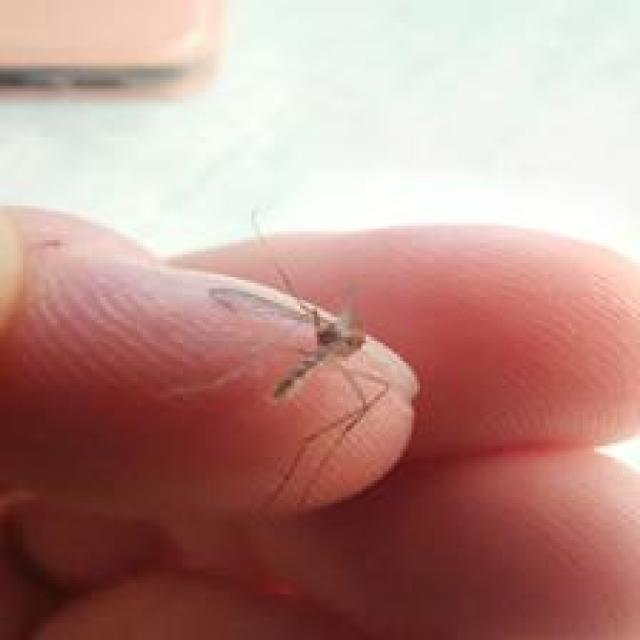Culex: (203, 209, 417, 517)
